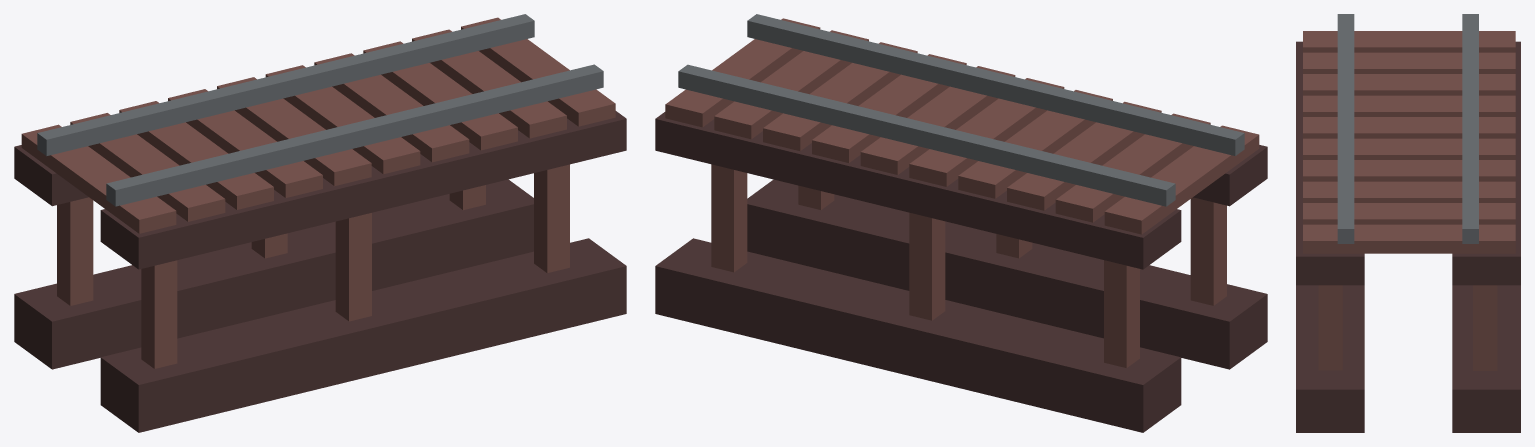
File: DarkRoseWoodMechSmall0_96GaugeStraight1.fbx
The picture shows the model from 3 angles, left to right: view 1: azimuth 30°, elevation 25°; view 2: azimuth 150°, elevation 25°; view 3: azimuth 270°, elevation 25°; orthographic projection. The views are drawn at different scales.
Visible parts, largest first — view 1: DarkRoseWoodMechSmall0_96GaugeStraight1; view 2: DarkRoseWoodMechSmall0_96GaugeStraight1; view 3: DarkRoseWoodMechSmall0_96GaugeStraight1.
Boxes of the visible parts, x1,y1,x2,y2 form: DarkRoseWoodMechSmall0_96GaugeStraight1: (14, 14, 626, 432); DarkRoseWoodMechSmall0_96GaugeStraight1: (655, 14, 1267, 432); DarkRoseWoodMechSmall0_96GaugeStraight1: (1296, 14, 1520, 432).
Size of the model in its own units: 500 by 221 by 221.
